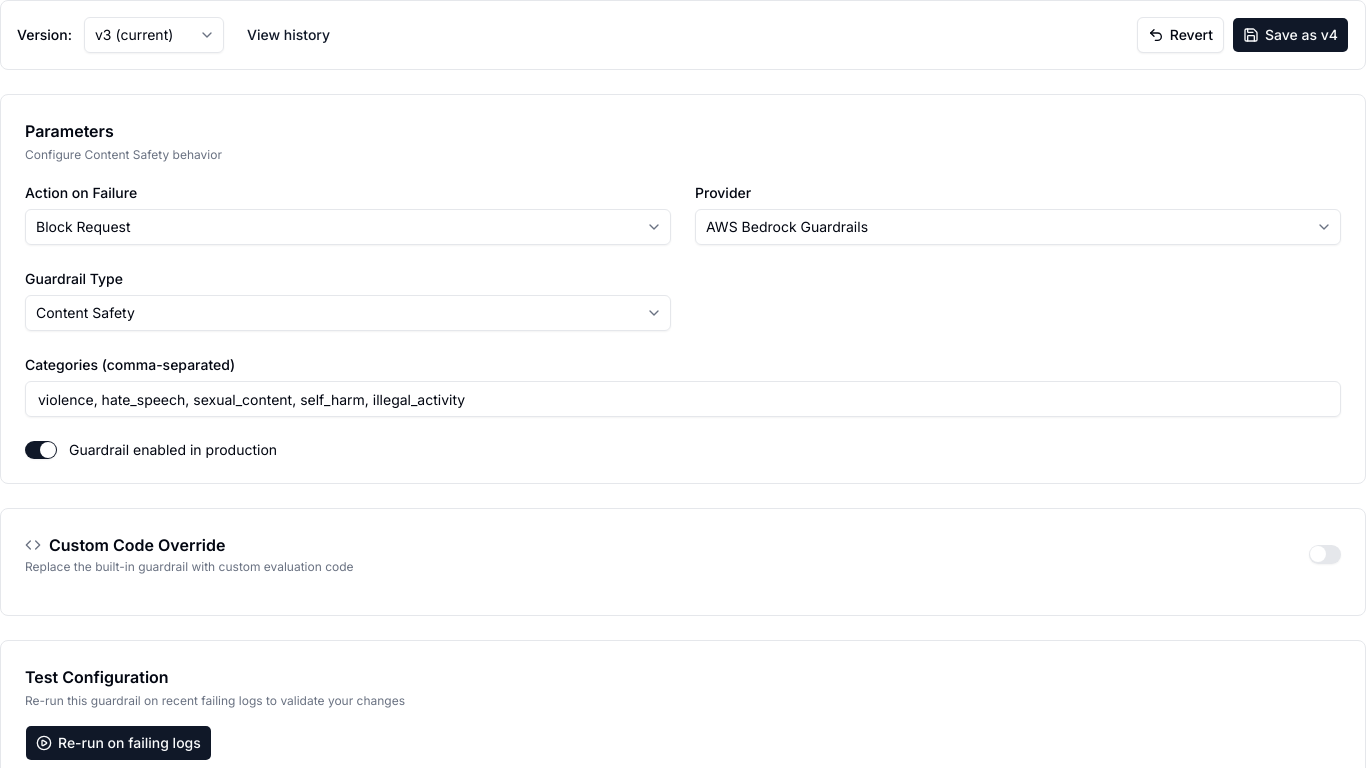
GuardrailConfig › should show version history when 'View history' is clicked
The width and height of the screenshot is (1366, 768).
Click the button "View history".
click(288, 35)  # box x1=236 y1=19 x2=341 y2=51
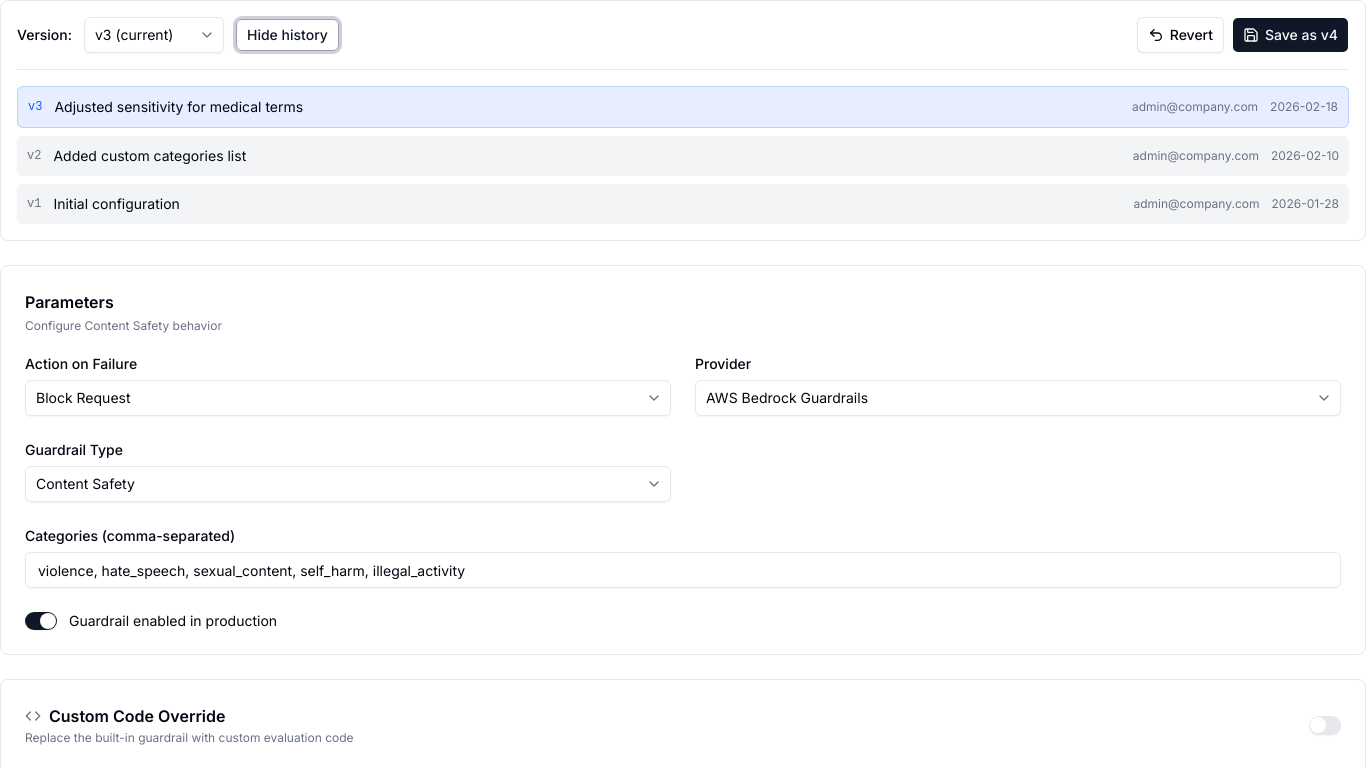
Expected: the text "Initial configuration" is shown, x1=53 y1=194 x2=180 y2=214
Expected: the text "Added custom categories list" is shown, x1=53 y1=146 x2=246 y2=166
